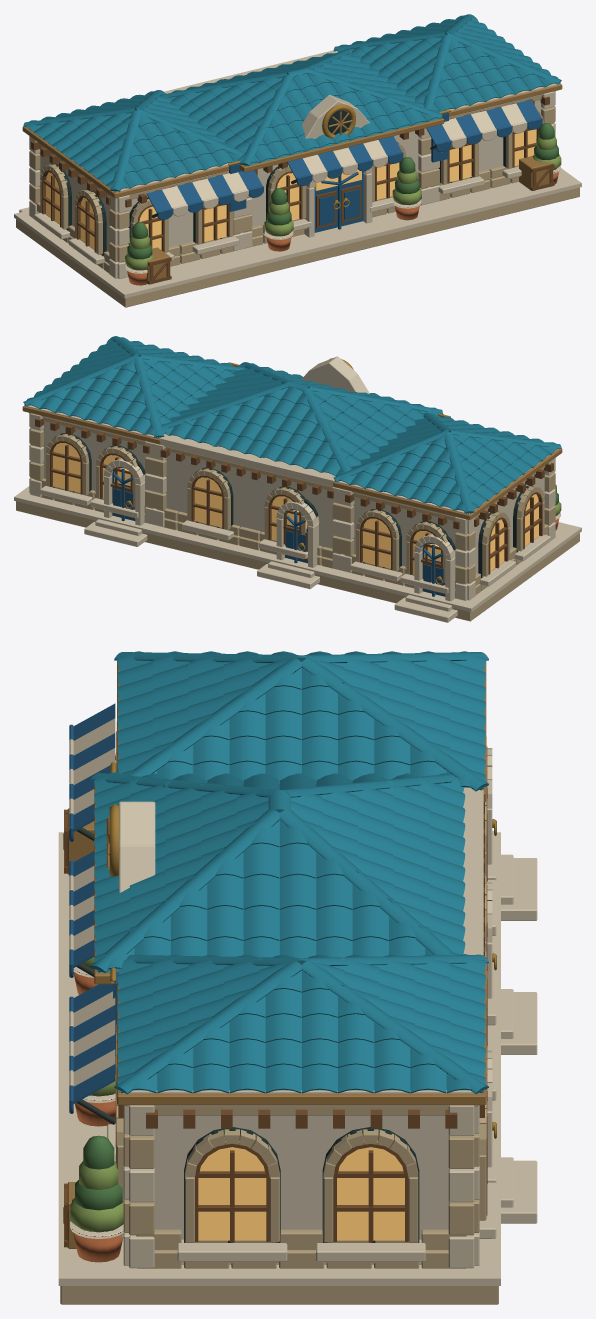
The picture shows the model from 3 angles, top to bottom: view 1: azimuth 30°, elevation 25°; view 2: azimuth 150°, elevation 25°; view 3: azimuth 270°, elevation 25°; orthographic projection. The views are drawn at different scales.
Visible parts, largest first — view 1: harbor_finance_1_geometry, harbor_finance_1_geometry ceramic; view 2: harbor_finance_1_geometry, harbor_finance_1_geometry ceramic; view 3: harbor_finance_1_geometry ceramic, harbor_finance_1_geometry.
Part boxes in pixels (bbox=[...]): harbor_finance_1_geometry: bbox=[14, 50, 581, 307]; harbor_finance_1_geometry ceramic: bbox=[23, 14, 561, 191]; harbor_finance_1_geometry: bbox=[14, 356, 581, 622]; harbor_finance_1_geometry ceramic: bbox=[23, 336, 561, 513]; harbor_finance_1_geometry ceramic: bbox=[90, 651, 488, 1094]; harbor_finance_1_geometry: bbox=[58, 661, 537, 1304].
Size of the model in its own units: 2.25 by 0.6669 by 1.02.
